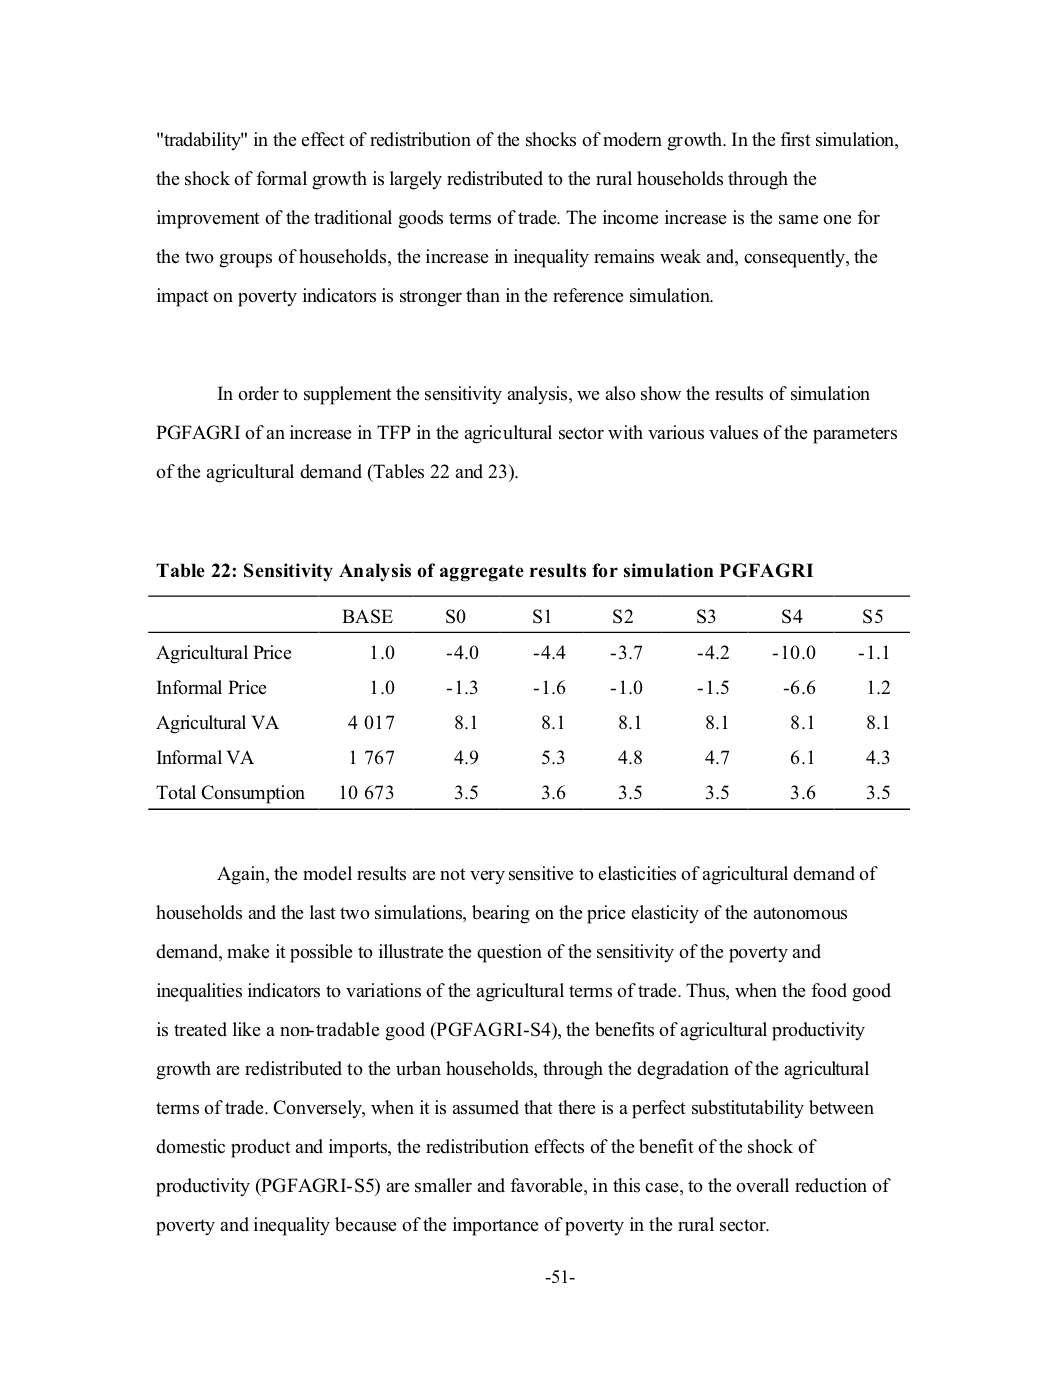Table: (148, 595, 909, 809)
